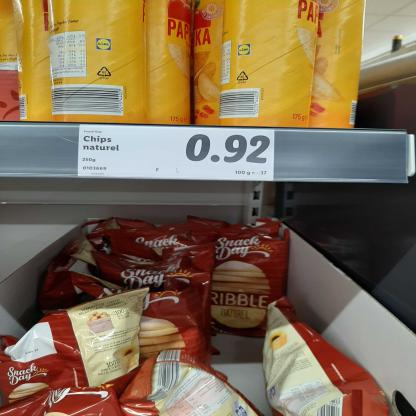prtg: (78, 126, 276, 183)
